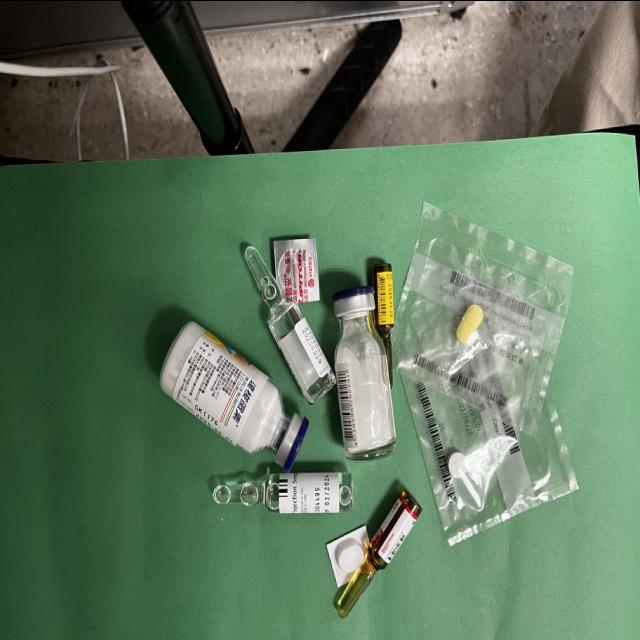Ampoules: (244, 245, 336, 405), (337, 489, 422, 618), (212, 471, 353, 513), (372, 262, 394, 388)
Vials: (157, 319, 308, 472), (334, 286, 396, 460)
